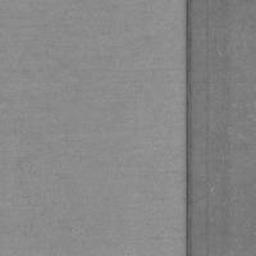Welding line: (184, 0, 193, 256)
